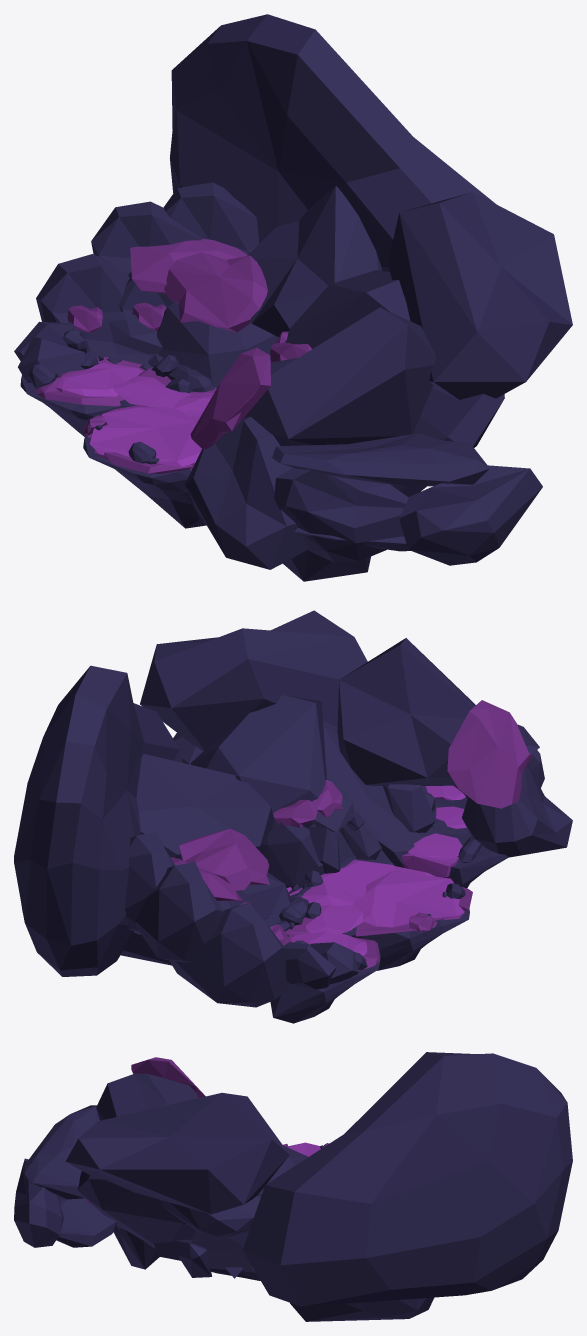
File: c_hub.glb
The picture shows the model from 3 angles, top to bottom: view 1: azimuth 30°, elevation 25°; view 2: azimuth 150°, elevation 25°; view 3: azimuth 270°, elevation 25°; orthographic projection. The views are drawn at different scales.
Visible parts, largest first — view 1: Cube.113, Cube.161, Cube.146, Cube.147, Cube.110, Cube.155, Cube.154, Cube.156, Cube.104, Cube.129, Cube.103, Cube.131 (+18 smaller); view 2: Cube.113, Cube.161, Cube.146, Cube.129, Cube.110, Cube.166, Cube.160, Cube.111, Cube.147, Cube.131, Cube.133, Cube.104 (+23 smaller); view 3: Cube.113, Cube.161, Cube.133, Cube.156, Cube.146, Cube.155, Cube.119, Cube.157, Cube.188, Cube.187, Cube.137, Cube.160 (+3 smaller).
Part boxes in pixels (bbox=[...]): Cube.113: bbox=[170, 14, 495, 271]; Cube.161: bbox=[388, 192, 572, 399]; Cube.146: bbox=[245, 307, 435, 445]; Cube.147: bbox=[185, 416, 309, 569]; Cube.110: bbox=[247, 186, 381, 337]; Cube.155: bbox=[399, 465, 542, 565]; Cube.154: bbox=[274, 467, 408, 562]; Cube.156: bbox=[272, 433, 489, 486]; Cube.104: bbox=[164, 252, 267, 332]; Cube.129: bbox=[286, 270, 410, 348]; Cube.103: bbox=[157, 301, 278, 388]; Cube.131: bbox=[90, 405, 201, 466]; Cube.113: bbox=[14, 665, 182, 976]; Cube.161: bbox=[140, 610, 367, 751]; Cube.146: bbox=[337, 638, 475, 785]; Cube.129: bbox=[190, 694, 326, 812]; Cube.110: bbox=[136, 753, 273, 859]; Cube.166: bbox=[169, 903, 287, 1007]; Cube.160: bbox=[447, 700, 531, 808]; Cube.111: bbox=[135, 862, 224, 962]; Cube.147: bbox=[462, 763, 572, 857]; Cube.131: bbox=[353, 871, 464, 927]; Cube.133: bbox=[303, 720, 427, 867]; Cube.104: bbox=[179, 828, 269, 890]; Cube.113: bbox=[243, 1052, 572, 1306]; Cube.161: bbox=[65, 1092, 289, 1214]; Cube.133: bbox=[77, 1171, 196, 1248]; Cube.156: bbox=[24, 1105, 99, 1199]; Cube.146: bbox=[96, 1073, 198, 1120]; Cube.155: bbox=[14, 1158, 63, 1247]; Cube.119: bbox=[290, 1297, 433, 1321]; Cube.157: bbox=[56, 1198, 116, 1247]; Cube.188: bbox=[162, 1195, 261, 1236]; Cube.187: bbox=[191, 1230, 260, 1280]; Cube.137: bbox=[113, 1226, 159, 1269]; Cube.160: bbox=[131, 1057, 205, 1097].
Bounding box in the file's own units: 21.3 × 16.99 × 31.06.
1 material, 1 textured.
